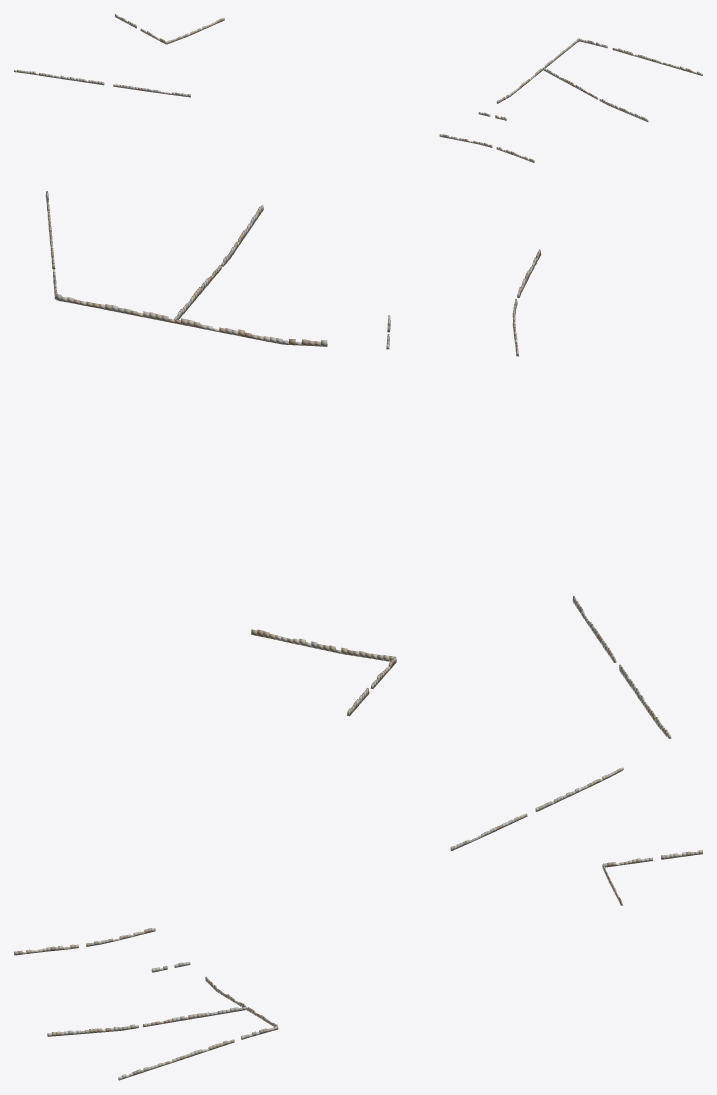
The model's file is farm_-6_16_collision.glb.
3 renders of one model, top to bottom at view 1: azimuth 30°, elevation 25°; view 2: azimuth 150°, elevation 25°; view 3: azimuth 270°, elevation 25°, orthographic. The views are drawn at different scales.
Parts seen in each view (by area): view 1: geometry_0; view 2: geometry_0; view 3: geometry_0.
Part boxes in pixels (left/top/right/bottom): geometry_0: left=14, top=14, right=702, bottom=162; geometry_0: left=45, top=191, right=671, bottom=738; geometry_0: left=14, top=767, right=702, bottom=1080.
Size of the model in its own units: 287 by 14.99 by 256.
